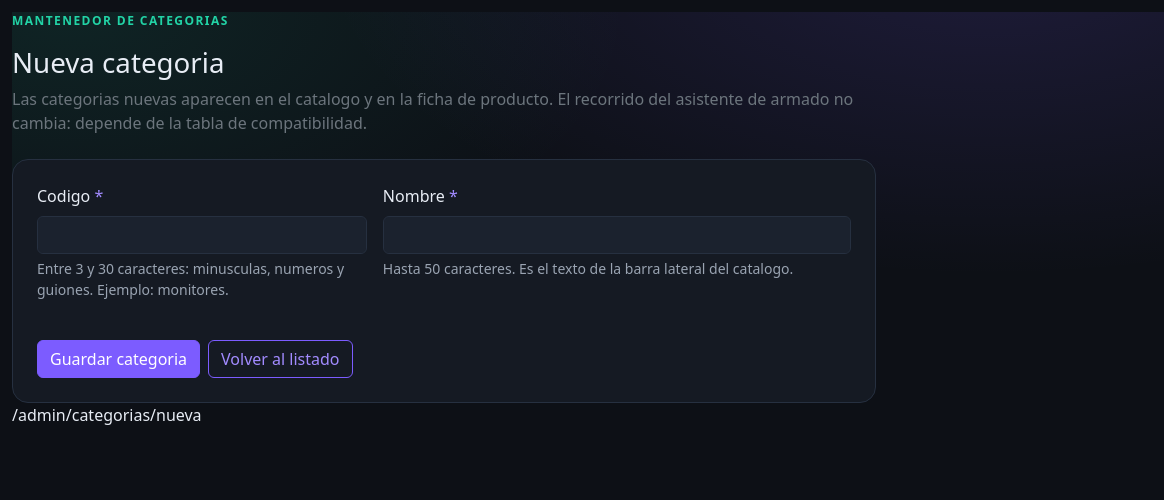
Test: admin / FormularioCategoria › crear › rechaza el codigo «Monitores» por sus caracteres (RF-25 CA2)
The width and height of the screenshot is (1164, 500).
Type "Monitores" into the field labelled "Codigo *" at (202, 235), box [37,216,367,254]
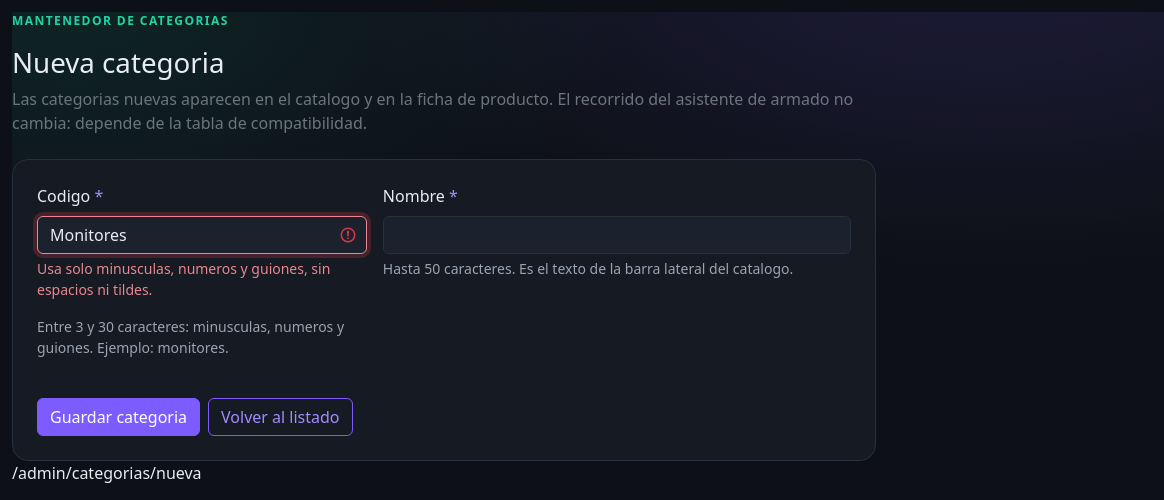
Now the text "Usa solo minusculas, numeros y guiones, sin espacios ni tildes." is shown, box [37,258,367,300]
